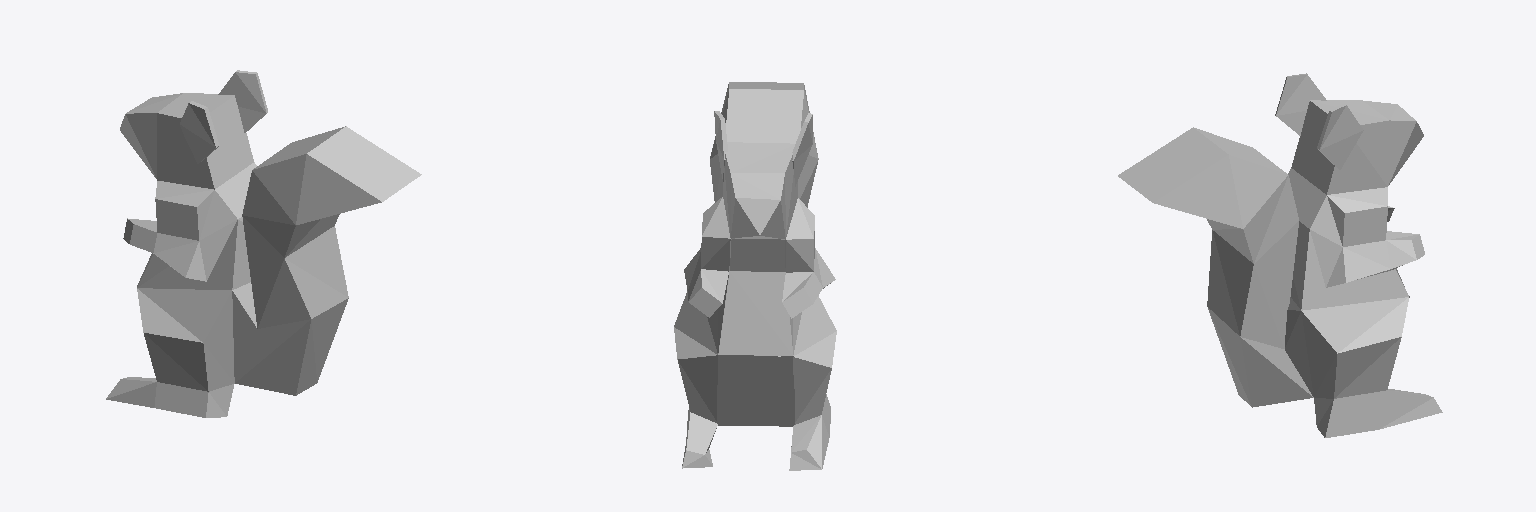
The model's file is squirrel.obj.
3 views of the same model, side by side, from view 1: azimuth 30°, elevation 25°; view 2: azimuth 150°, elevation 25°; view 3: azimuth 270°, elevation 25° (orthographic).
Visible parts, largest first — view 1: model; view 2: model; view 3: model.
Part boxes in pixels (x1,y1,x2,y2): model: (106,70,421,417); model: (674,82,836,470); model: (1118,73,1442,437).
Size of the model in its own units: 0.7506 by 1.11 by 1.03.